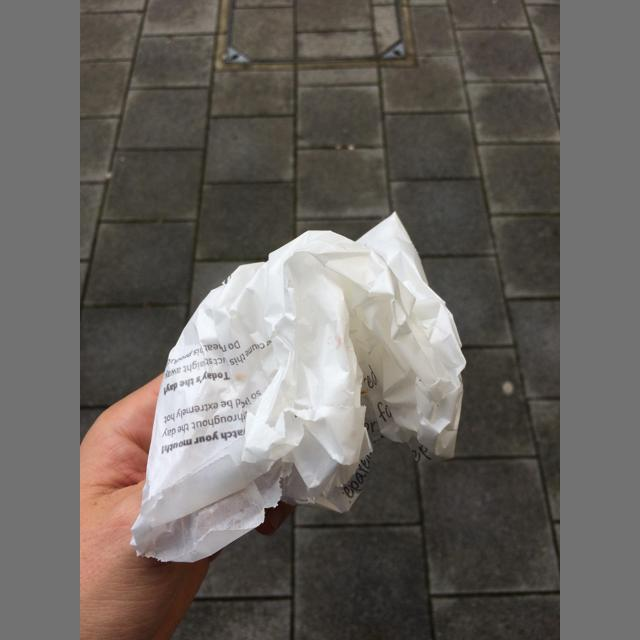litter: (130, 214, 466, 563)
